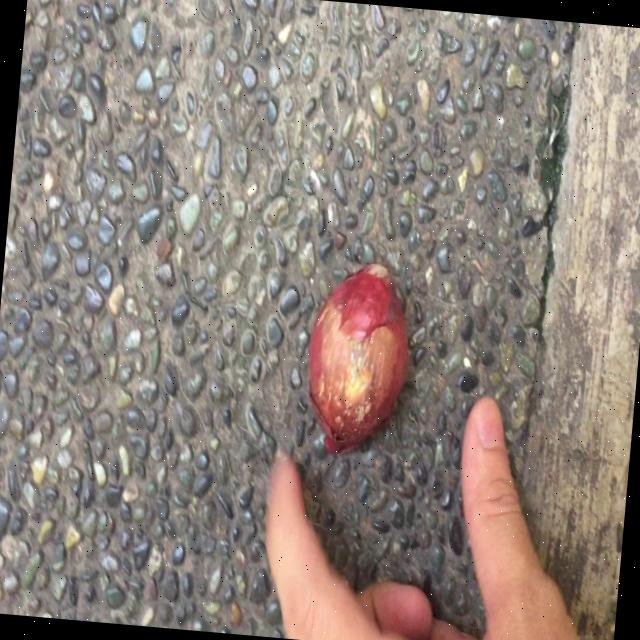Onion: (309, 263, 408, 453)
